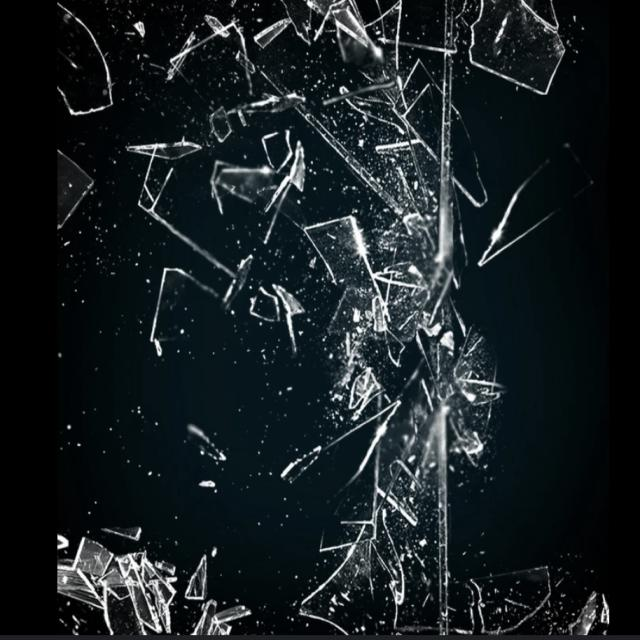PecahanKaca: (56, 0, 594, 636)
